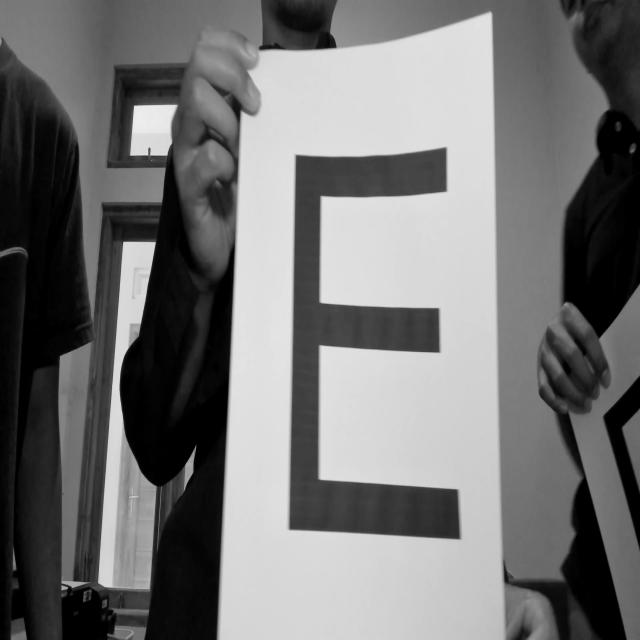e: (273, 136, 477, 572)
